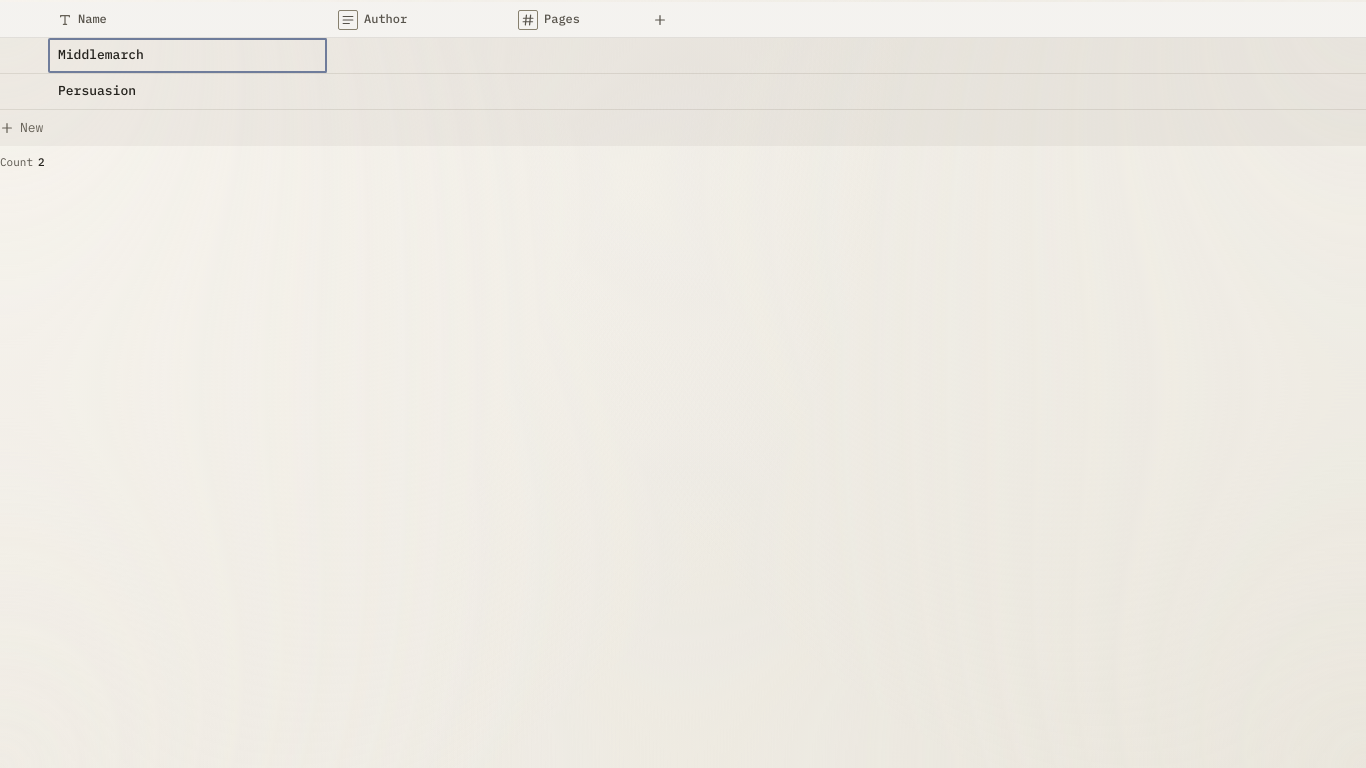
Insert left and Insert right › gives the focus back to the grid, on the same header, when the add menu is closed with Escape
Press ArrowRight in the table, box [0, 2, 1365, 110]
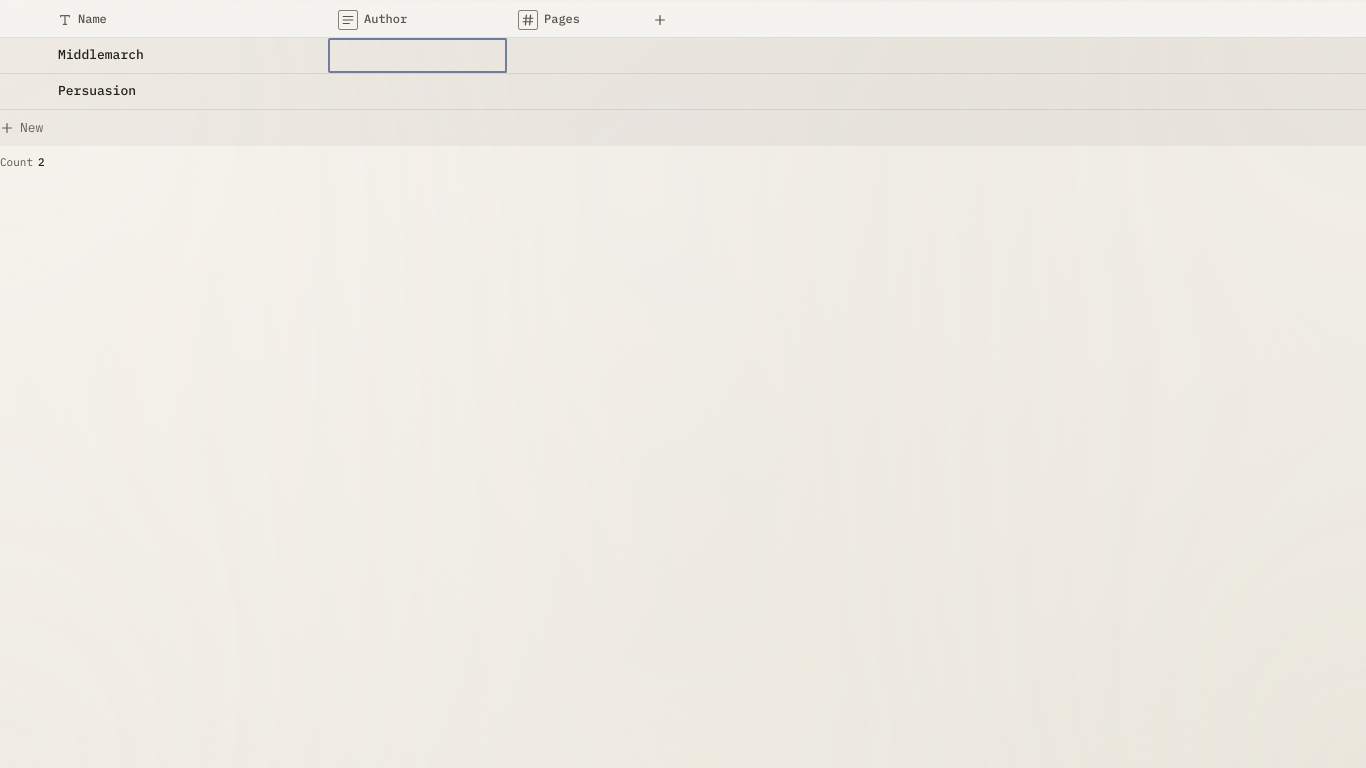
Press ArrowUp in the table, box [0, 2, 1365, 110]
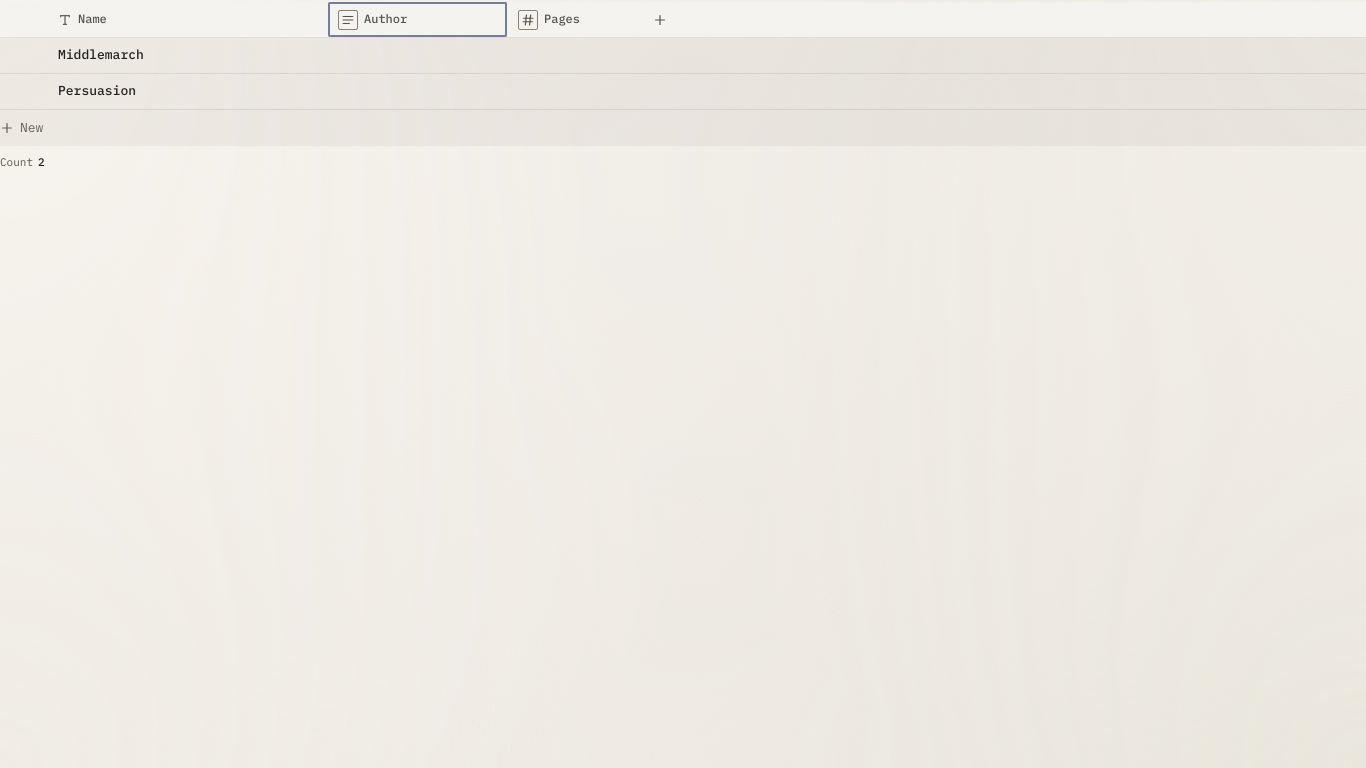
Press Enter in the table, box [0, 2, 1365, 110]
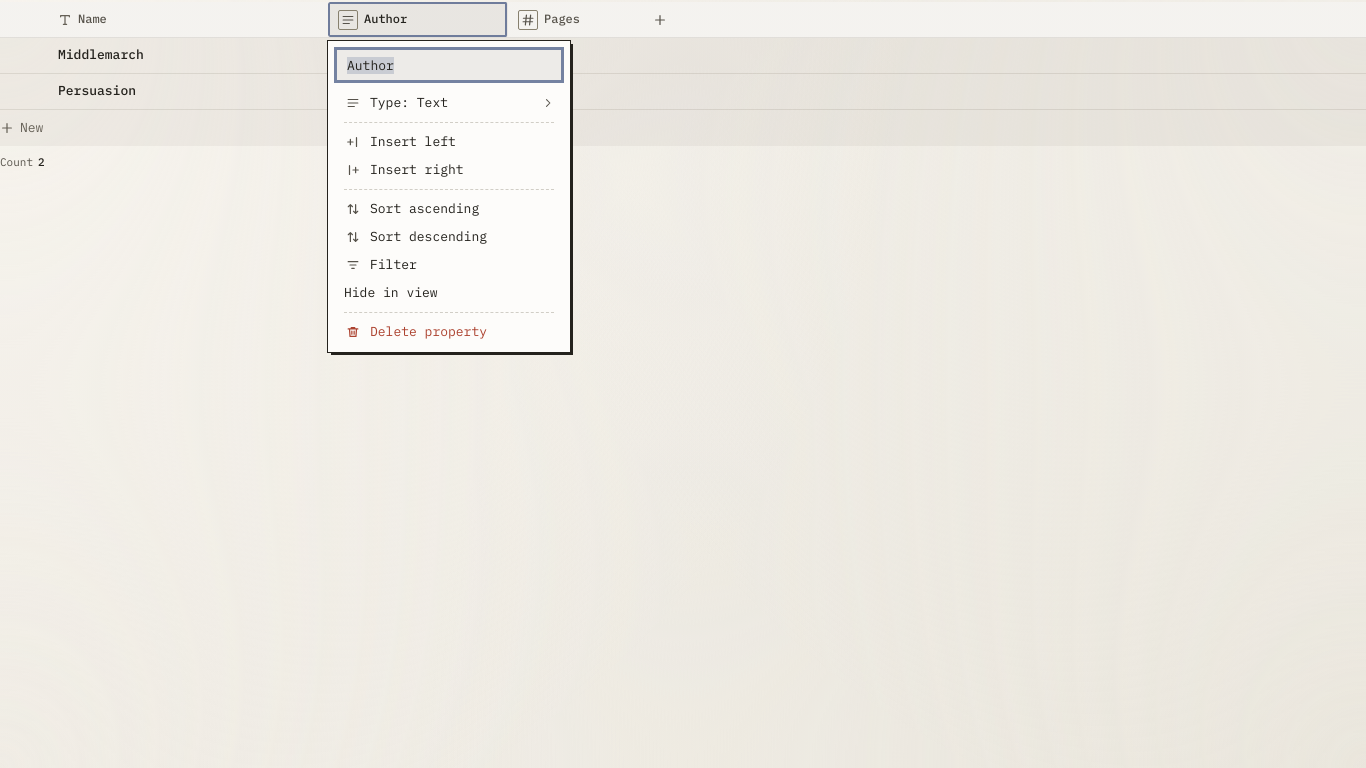
Click the menu item "Insert left" at (401, 141), box [346, 132, 456, 150]
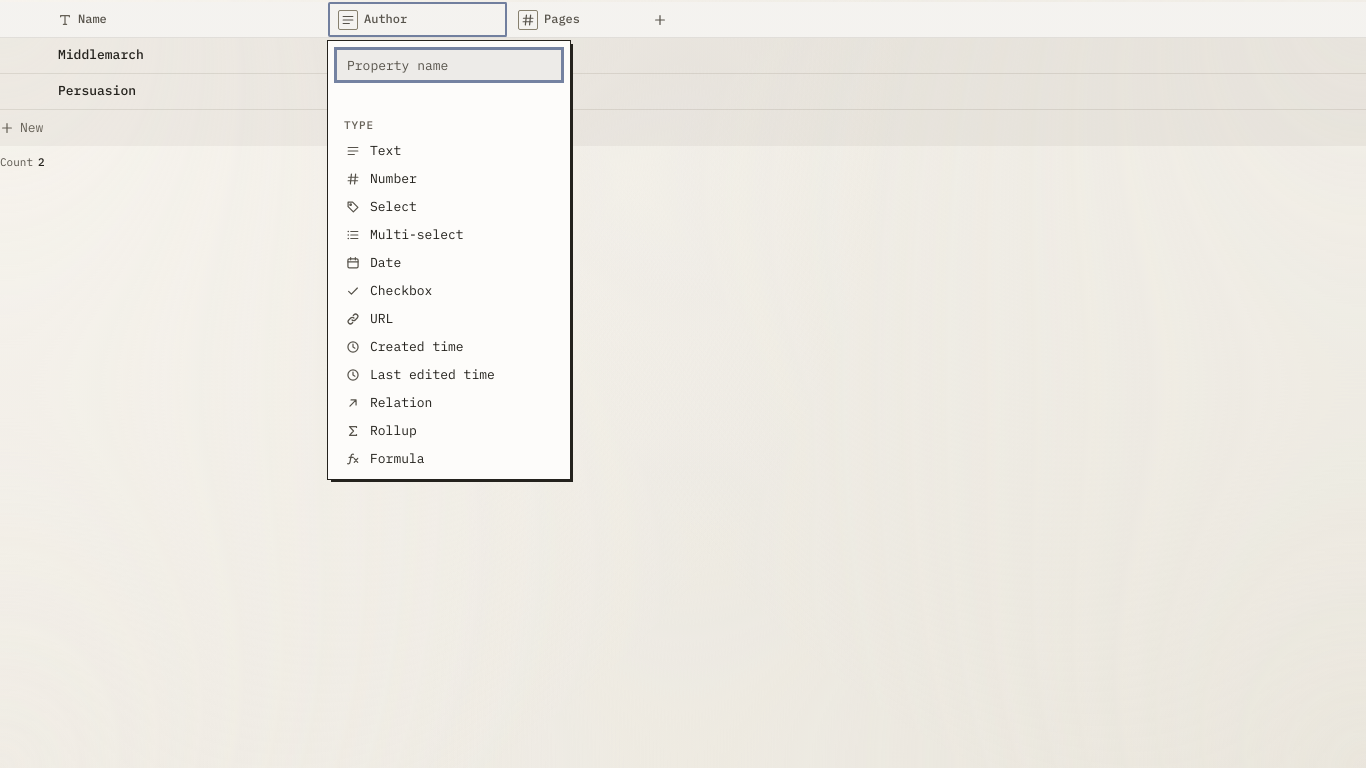
Press Escape in the field with placeholder "Property name", box [337, 50, 561, 80]
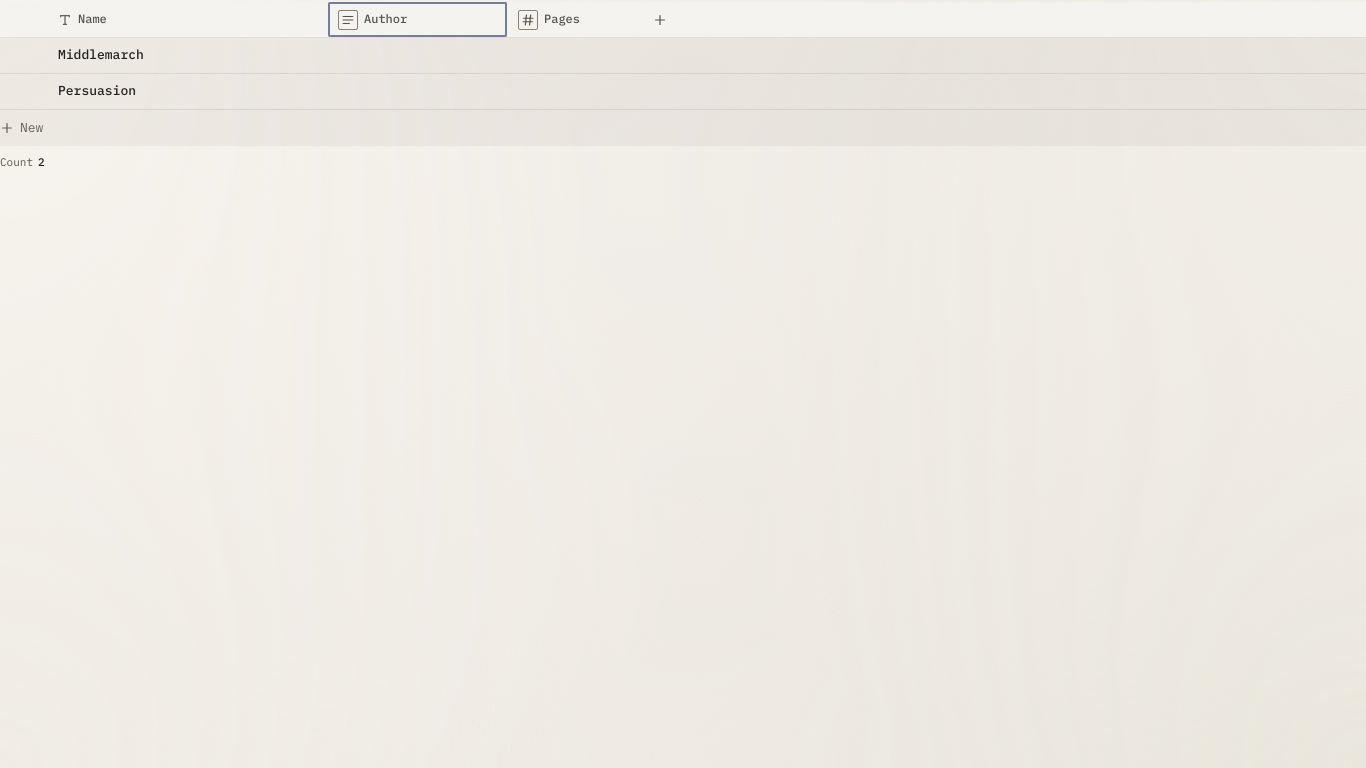
Check: the column heading "Author" is shown, box [328, 2, 508, 37]
Check: the dialog with class "ui-popover" is gone
